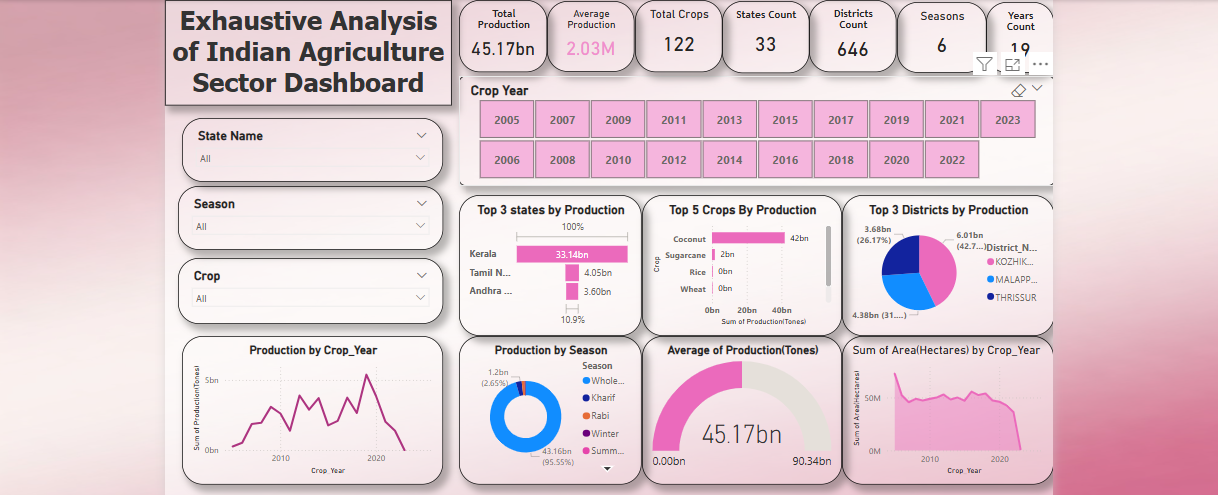

The page's visual inventory and layout, read from the dashboard file:
{"tool":"powerbi","page":{"name":"Page 2","canvas":[1280,720],"ordinal":0},"visuals":[{"type":"textbox","title":"Exhaustive Analysis of Indian Agriculture Sector Dashboard","box":[0,0,412.7,152.2],"z":0},{"type":"card","title":"Total Production","fields":{"Values":["Sum(Crops_Data.Production(Tonnes))"]},"box":[422.9,0,127.3,103.9],"z":1000},{"type":"actionButton","box":[0,0,100,40],"z":2000},{"type":"card","title":"Years Count","fields":{"Values":["Crops_Data.Crop_Year count"]},"box":[1182.4,2.9,98,102.4],"z":3000},{"type":"card","title":"Districts Count","fields":{"Values":["Crops_Data.District_Name count"]},"box":[927.8,1.5,125.9,103.9],"z":4000},{"type":"card","title":"Seasons","fields":{"Values":["Crops_Data.Season count"]},"box":[1053.7,2.9,128.8,102.4],"z":5000},{"type":"card","title":"States Count","fields":{"Values":["Crops_Data.State_name count"]},"box":[802,1.5,125.9,103.9],"z":6000},{"type":"card","title":"Average Production","fields":{"Values":["Crops_Data.average of Production(Tonnes) average per Production(Tonnes)"]},"box":[550.2,1.5,125.9,102.4],"z":7000},{"type":"slicer","fields":{"Values":["Crops_Data.State_Name"]},"box":[14.6,169.8,386.3,92.2],"z":8000},{"type":"slicer","fields":{"Values":["Crops_Data.Crop"]},"box":[19,371.7,382,95.1],"z":9000},{"type":"slicer","fields":{"Values":["Crops_Data.Crop_Year"]},"box":[422.9,122.9,857.6,158],"z":10000},{"type":"slicer","fields":{"Values":["Crops_Data.Season"]},"box":[19,267.8,382,92.2],"z":11000},{"type":"barChart","title":"Top 5 Crops By Production","fields":{"Category":["Crops_Data.Crop"],"Y":["Sum(Crops_Data.Production(Tonnes))"]},"box":[686.3,281,288.3,203.4],"z":12000},{"type":"funnel","title":"Top 3 states by Production","fields":{"Category":["Crops_Data.State_Name"],"Y":["Sum(Crops_Data.Production(Tonnes))"]},"box":[422.9,281,263.4,203.4],"z":13000},{"type":"pieChart","title":"Top 3 Districts by Production","fields":{"Category":["Crops_Data.District_Name"],"Y":["Sum(Crops_Data.Production(Tonnes))"]},"box":[974.6,281,305.9,203.4],"z":14000},{"type":"treemap","title":"Production(Tones) by Crop_Year","fields":{"Group":["Crops_Data.Crop_Year"],"Values":["Sum(Crops_Data.Production(Tones))"]},"box":[686.3,484.4,367.3,213.7],"z":15000},{"type":"card","title":"Total Crops","fields":{"Values":["Crops_Data.Crop count"]},"box":[676.1,0,125.9,103.9],"z":16000},{"type":"donutChart","title":"Production by Season","fields":{"Category":["Crops_Data.Season"],"Y":["Sum(Crops_Data.Production(Tones))"]},"box":[422.9,484.4,263.4,213.7],"z":17000},{"type":"lineChart","title":"Production by Crop_Year","fields":{"Category":["Crops_Data.Crop_Year"],"Y":["Sum(Crops_Data.Production(Tones))"]},"box":[24.9,484.4,376.1,213.7],"z":18000},{"type":"gauge","title":"Current year average of Production(Tones)","fields":{"Y":["Sum(Crops_Data.Production(Tones))"]},"box":[1053.7,484.4,226.8,213.7],"z":18001}]}

Visuals, with their boxes in screenshot pixels (x1, y1, x2, y2):
"Exhaustive Analysis of Indian Agriculture Sector Dashboard" textbox: [155,0,445,101]
"Total Production" card: [453,0,542,67]
actionButton: [155,0,226,22]
"Years Count" card: [986,0,1055,68]
"Districts Count" card: [807,0,896,68]
"Seasons" card: [896,0,986,68]
"States Count" card: [719,0,807,68]
"Average Production" card: [542,0,630,67]
slicer - Crops_Data.State_Name: [166,113,437,178]
slicer - Crops_Data.Crop: [169,255,437,322]
slicer - Crops_Data.Crop_Year: [453,80,1055,191]
slicer - Crops_Data.Season: [169,182,437,247]
"Top 5 Crops By Production" barChart: [638,191,840,334]
"Top 3 states by Production" funnel: [453,191,638,334]
"Top 3 Districts by Production" pieChart: [840,191,1055,334]
"Production(Tones) by Crop_Year" treemap: [638,334,896,484]
"Total Crops" card: [630,0,719,67]
"Production by Season" donutChart: [453,334,638,484]
"Production by Crop_Year" lineChart: [173,334,437,484]
"Current year average of Production(Tones)" gauge: [896,334,1055,484]
